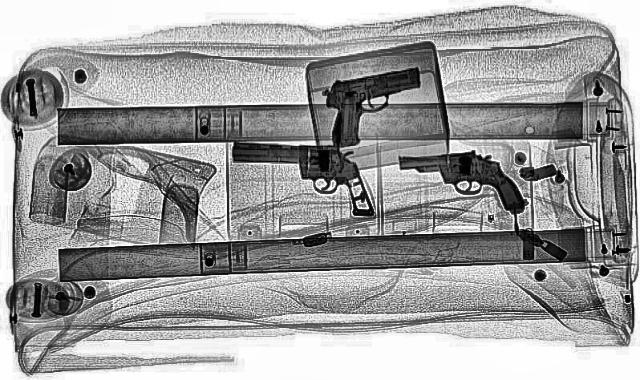Gun: (300, 66, 458, 148), (220, 140, 384, 216), (396, 148, 524, 216)
